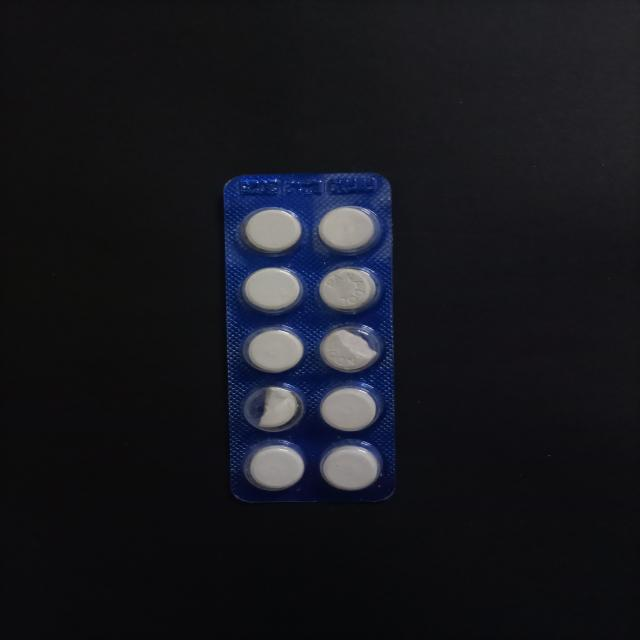defect: (237, 381, 311, 436), (315, 322, 387, 374)
